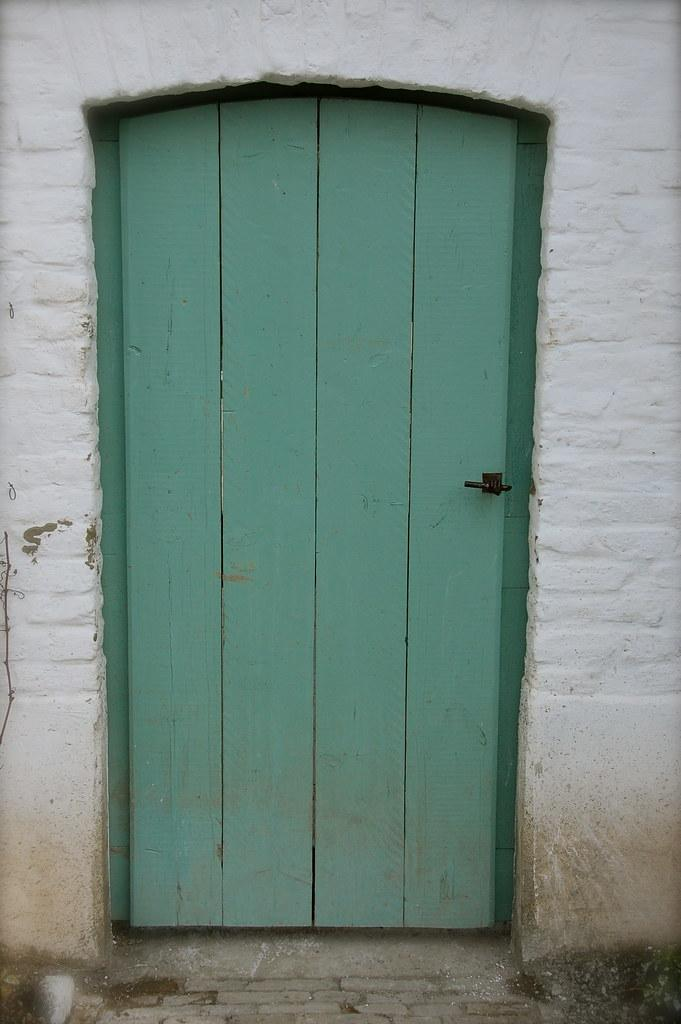door: (115, 94, 528, 931)
